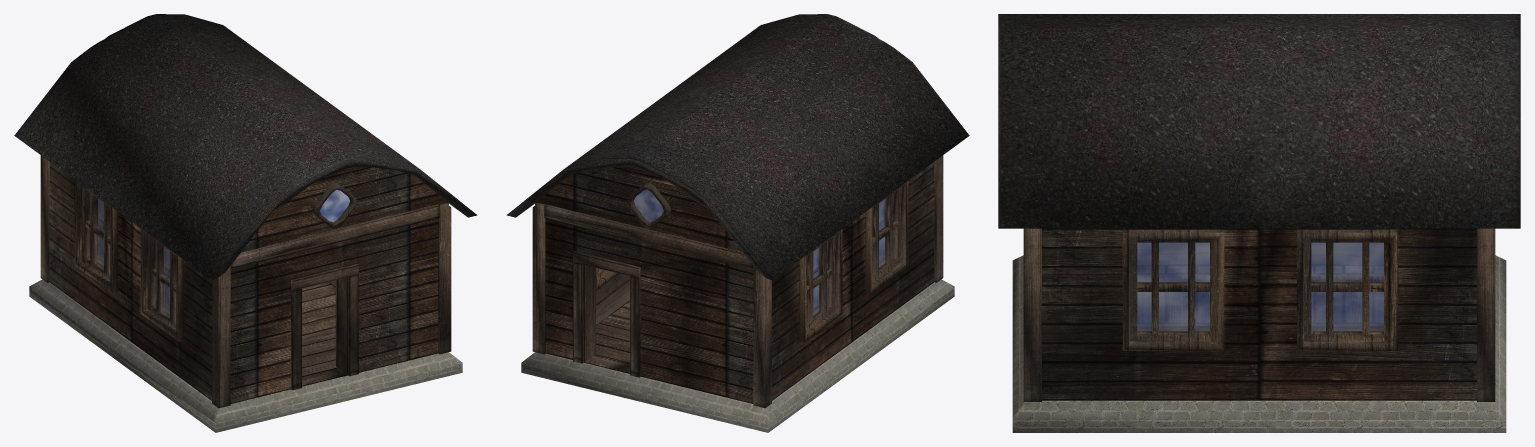
The model's file is cabin.glb.
The picture shows the model from 3 angles, left to right: view 1: azimuth 30°, elevation 25°; view 2: azimuth 150°, elevation 25°; view 3: azimuth 270°, elevation 25°; orthographic projection. The views are drawn at different scales.
Visible parts, largest first — view 1: House; view 2: House; view 3: House.
Part boxes in pixels (bbox=[...]): House: bbox=[14, 14, 477, 432]; House: bbox=[506, 14, 969, 432]; House: bbox=[998, 14, 1520, 432].
Bounding box in the file's own units: 5.06 × 4.48 × 6.51.
13 materials, 13 textured.
